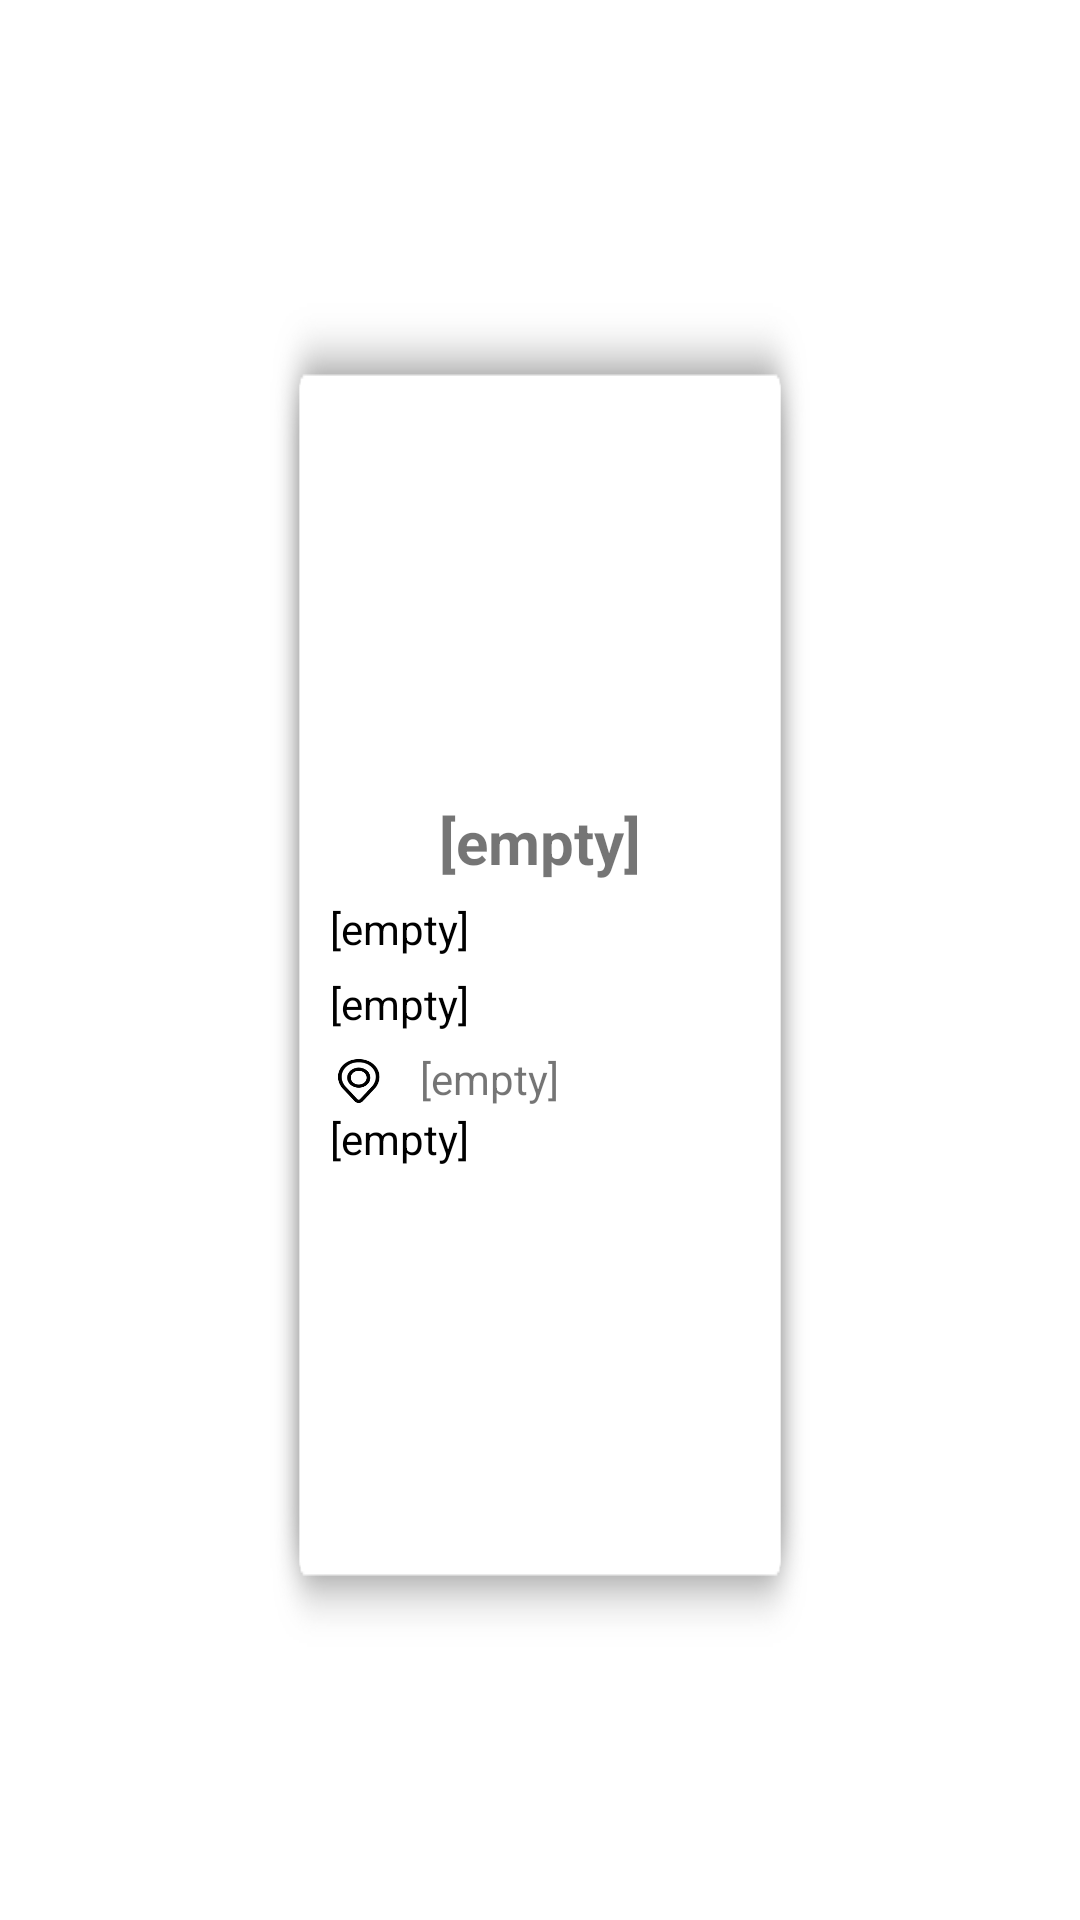

Named icons in this screenshot (1080 × 1920) and their bounding boxes, (x1, y1, x2, y2):
loc: (338, 1059, 380, 1103)
